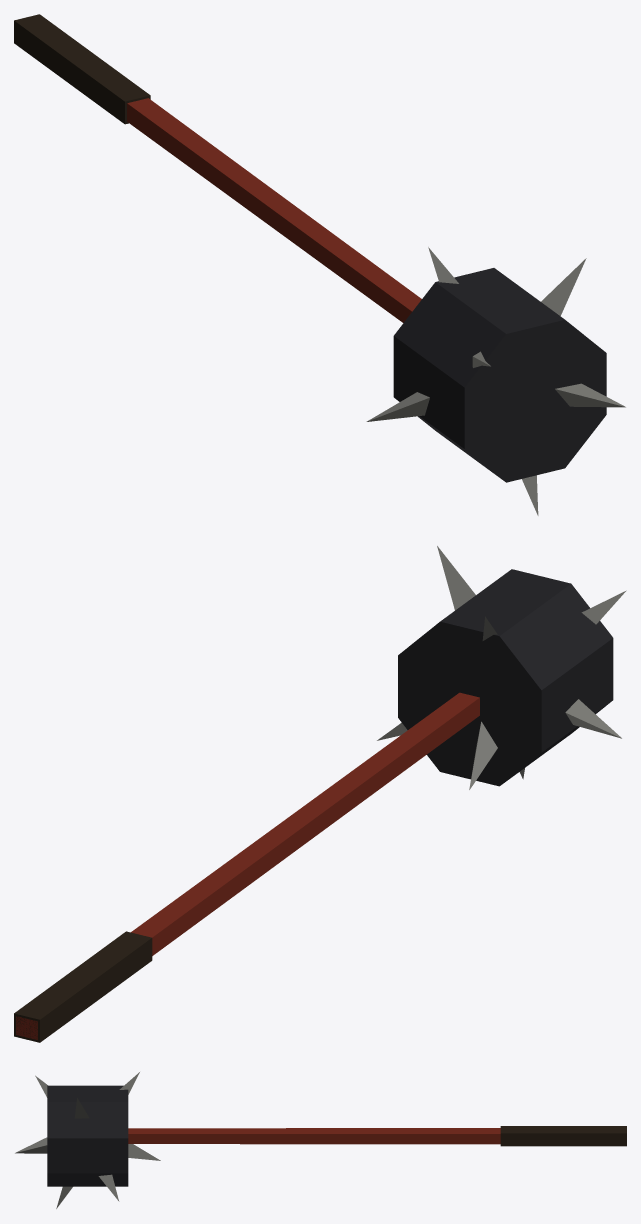
The model's file is wtype_improvised.glb.
The picture shows the model from 3 angles, top to bottom: view 1: azimuth 30°, elevation 25°; view 2: azimuth 150°, elevation 25°; view 3: azimuth 270°, elevation 25°; orthographic projection. The views are drawn at different scales.
Parts seen in each view (by area): view 1: wtype_improvised; view 2: wtype_improvised; view 3: wtype_improvised.
Boxes of the visible parts, box(x1,y1,x2,y2) form: wtype_improvised: box(14, 14, 625, 515); wtype_improvised: box(14, 546, 626, 1042); wtype_improvised: box(15, 1072, 626, 1208).
Size of the model in its own units: 0.1759 by 0.1711 by 0.7275.
